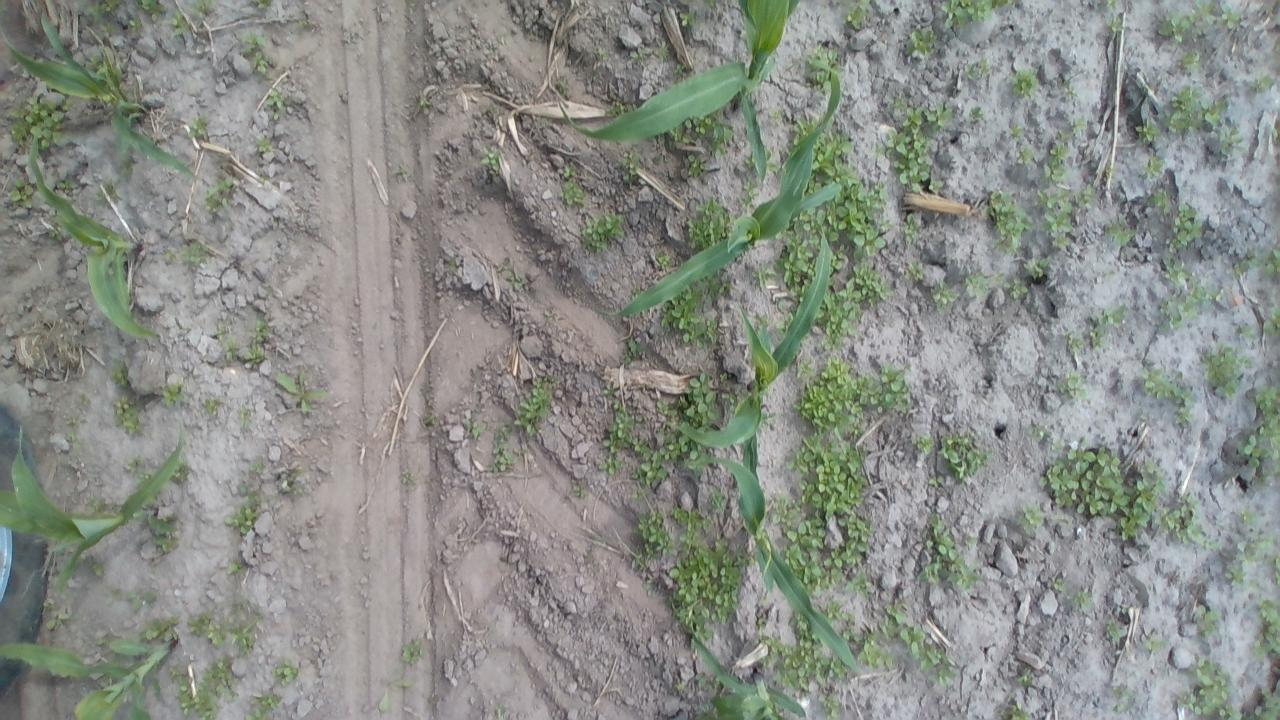Maize: (620, 60, 844, 315), (560, 0, 797, 191), (688, 437, 865, 676), (661, 216, 830, 446), (3, 7, 200, 180), (2, 422, 185, 591), (30, 134, 160, 340), (0, 638, 180, 720), (688, 634, 806, 720)
Weeds: (1040, 439, 1166, 541), (665, 536, 755, 640), (760, 614, 847, 692), (885, 598, 957, 682), (792, 356, 869, 434), (788, 436, 869, 510), (889, 105, 954, 193), (920, 512, 986, 587), (832, 176, 888, 258), (1176, 653, 1242, 720), (661, 289, 720, 352), (782, 515, 826, 591), (10, 97, 71, 148), (828, 513, 872, 582), (988, 188, 1032, 252), (601, 400, 653, 454), (275, 368, 335, 414), (1162, 284, 1222, 330), (1204, 344, 1255, 398), (1032, 187, 1072, 250), (940, 432, 994, 478), (167, 668, 215, 718), (688, 198, 732, 246), (680, 372, 721, 423), (514, 376, 549, 433), (1160, 493, 1198, 545), (818, 294, 859, 342), (1255, 382, 1280, 459), (870, 368, 911, 413), (940, 0, 1012, 25), (1168, 202, 1202, 252), (1252, 598, 1280, 657), (636, 514, 674, 556), (815, 134, 855, 173), (796, 209, 838, 246), (1088, 307, 1126, 347), (850, 263, 886, 305), (1140, 368, 1190, 398), (1168, 85, 1200, 129), (585, 215, 623, 251), (782, 242, 812, 284), (1244, 686, 1280, 720), (856, 630, 890, 666), (377, 680, 415, 712), (638, 450, 668, 486), (115, 395, 142, 435), (669, 506, 710, 532), (808, 43, 836, 81), (711, 115, 735, 157), (1238, 534, 1276, 560), (224, 506, 258, 535), (204, 660, 234, 692), (1156, 11, 1188, 40), (1045, 144, 1070, 180), (767, 496, 797, 525), (228, 622, 258, 650), (630, 43, 670, 64), (1238, 434, 1264, 466), (1060, 371, 1088, 400), (904, 28, 934, 55), (140, 618, 178, 639), (1104, 220, 1134, 244), (817, 688, 840, 719), (1018, 502, 1044, 529), (1009, 71, 1037, 96), (1196, 605, 1220, 634), (282, 465, 304, 496), (621, 338, 647, 363), (966, 270, 989, 298), (931, 280, 959, 303), (85, 0, 118, 19), (272, 660, 298, 684), (8, 180, 32, 206), (1133, 117, 1158, 141), (1204, 96, 1226, 123), (125, 591, 156, 610), (900, 214, 919, 245), (244, 341, 266, 367), (1164, 260, 1190, 282), (845, 570, 871, 592), (1220, 126, 1241, 153), (108, 362, 128, 390), (824, 596, 848, 619), (847, 0, 869, 25), (906, 259, 928, 284), (620, 152, 638, 182), (1146, 188, 1170, 210), (1234, 252, 1258, 274), (491, 426, 510, 453), (139, 0, 167, 18), (1191, 1, 1215, 22), (1000, 704, 1031, 720), (248, 320, 270, 342), (1024, 258, 1048, 278), (1005, 278, 1029, 298), (188, 613, 210, 634), (1146, 157, 1168, 178), (182, 242, 205, 262), (740, 182, 759, 206), (1263, 248, 1280, 274), (402, 639, 423, 660), (661, 439, 681, 461), (563, 180, 583, 202), (1180, 52, 1202, 72), (600, 456, 624, 474), (240, 485, 264, 503), (687, 116, 711, 134), (84, 555, 104, 576), (162, 385, 182, 406), (1065, 333, 1085, 354), (794, 115, 816, 134), (916, 437, 938, 456), (210, 623, 227, 647), (190, 118, 210, 138), (47, 614, 70, 631), (171, 9, 186, 34), (1223, 9, 1242, 28), (203, 396, 221, 416), (224, 340, 242, 360), (100, 182, 118, 202), (688, 154, 704, 176), (1264, 308, 1280, 330), (266, 89, 284, 108), (203, 190, 222, 208), (1172, 405, 1192, 422), (153, 536, 177, 550), (1018, 142, 1033, 164), (248, 456, 266, 474), (557, 77, 573, 97), (709, 276, 728, 292), (246, 31, 266, 46), (513, 274, 530, 291), (498, 454, 514, 472), (1080, 184, 1096, 202), (695, 670, 711, 688), (191, 1, 213, 14), (104, 588, 118, 608), (1256, 74, 1276, 88), (172, 464, 187, 482), (1228, 567, 1246, 582), (1076, 589, 1090, 608), (1148, 632, 1162, 651), (254, 50, 266, 72), (128, 455, 144, 471), (1030, 420, 1046, 436), (798, 358, 814, 374), (226, 560, 244, 574), (1107, 618, 1121, 636), (243, 709, 270, 718), (393, 165, 409, 180), (256, 695, 280, 705), (482, 150, 497, 166), (1072, 116, 1088, 131), (217, 322, 230, 340), (656, 249, 669, 267), (258, 137, 273, 152), (976, 58, 990, 74), (1272, 556, 1280, 584), (708, 495, 724, 509), (668, 128, 688, 139), (402, 470, 417, 484), (1108, 15, 1122, 30), (240, 406, 252, 423), (1058, 130, 1075, 142), (218, 177, 232, 191), (681, 12, 695, 26), (1240, 323, 1254, 337), (1204, 536, 1218, 550), (68, 433, 81, 448), (1116, 684, 1131, 697), (446, 256, 458, 272), (679, 435, 690, 452), (1019, 670, 1030, 687), (609, 101, 623, 114), (1048, 577, 1062, 590), (929, 476, 944, 488), (990, 272, 1005, 284), (1104, 159, 1112, 181), (1050, 439, 1066, 450), (690, 450, 699, 469), (574, 486, 588, 498), (252, 610, 266, 622), (968, 107, 982, 119), (53, 181, 69, 191), (87, 498, 100, 510), (966, 534, 979, 546), (1241, 508, 1254, 520), (250, 0, 272, 7), (768, 109, 782, 120), (807, 179, 820, 190), (470, 423, 480, 437), (1012, 124, 1022, 138), (164, 248, 174, 261), (595, 46, 605, 58), (1112, 704, 1126, 712), (69, 415, 79, 426), (841, 630, 852, 640), (676, 62, 686, 72), (845, 614, 857, 622), (559, 166, 570, 174), (1068, 87, 1077, 96), (298, 18, 308, 26), (1108, 0, 1116, 8)
